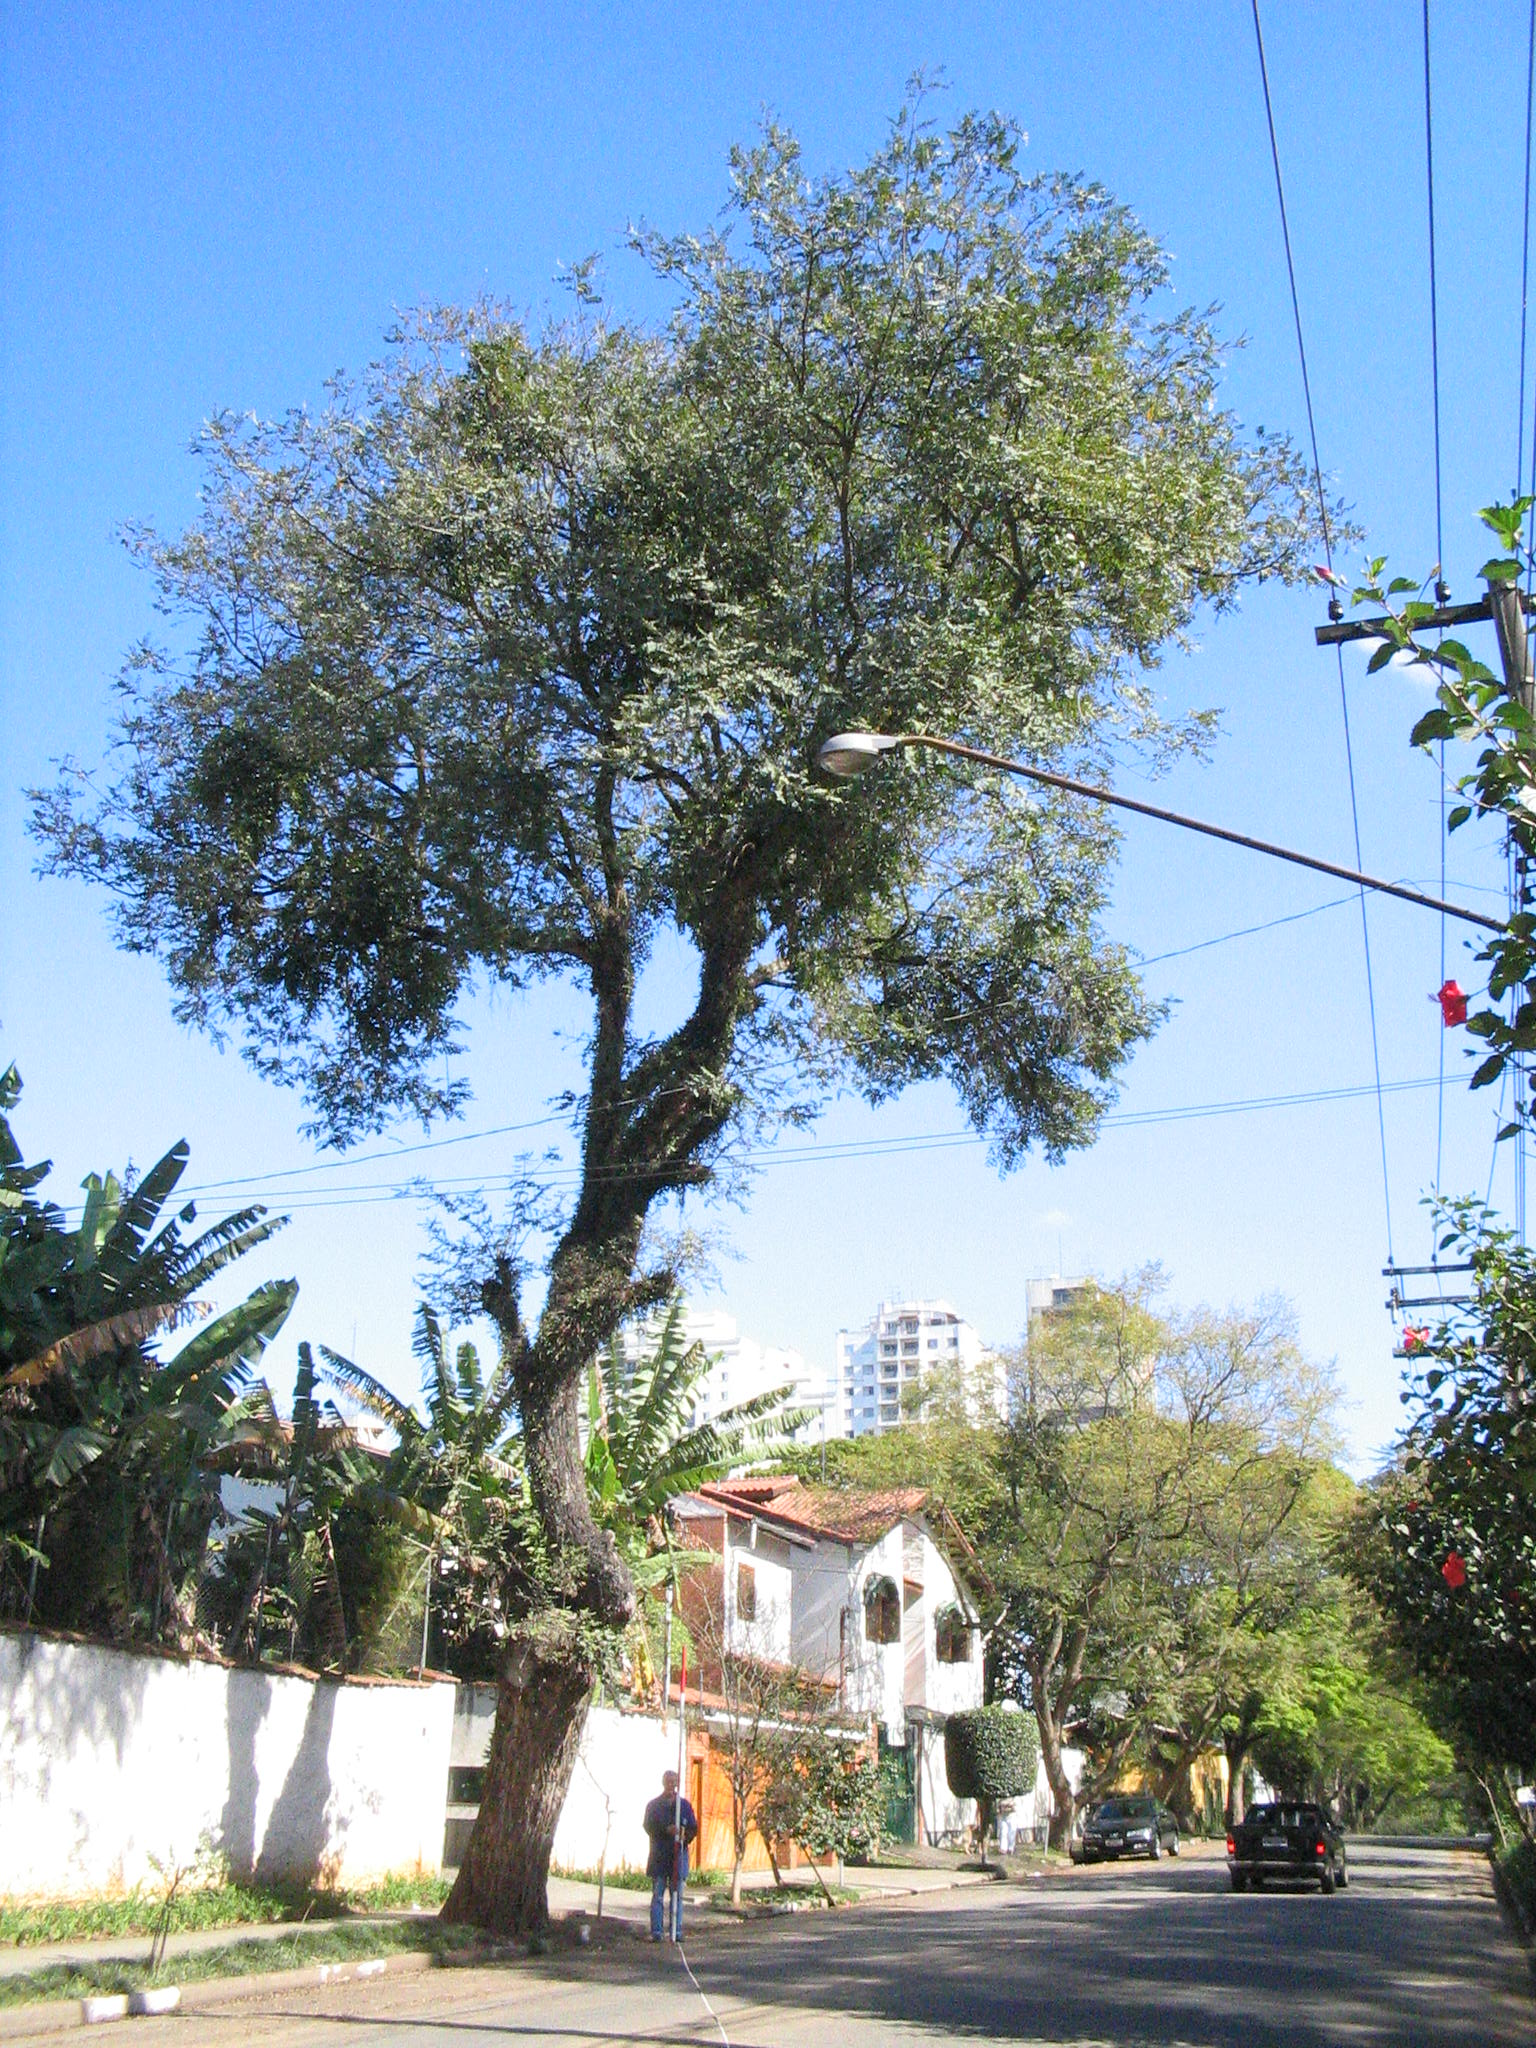crown: (27, 61, 1362, 1193)
stem: (432, 1380, 641, 1938)
stick: (653, 1640, 692, 1942)
tree: (24, 61, 1368, 1948), (916, 1269, 1359, 1856)
